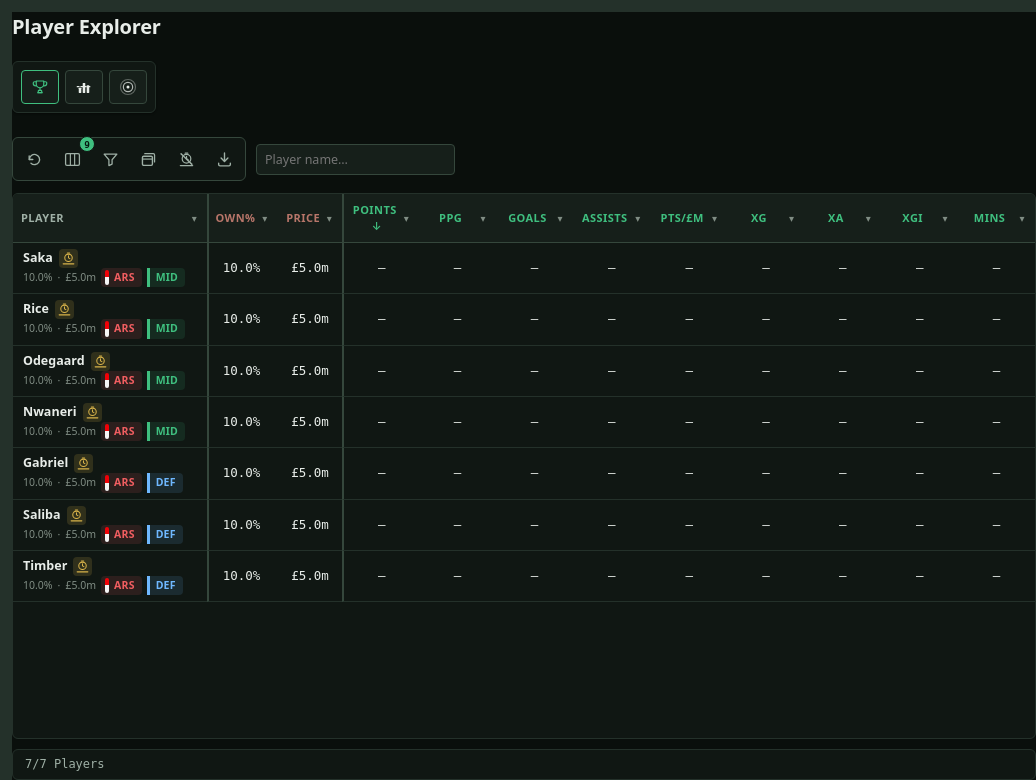
Test case: Player Explorer — <hide_small_samples> › the Hide button leaves out the players under the minutes threshold, and Clear filters brings them back
The width and height of the screenshot is (1036, 780).
Click the button named "Current Season": (128, 87) top-left (109, 70), bottom-right (147, 104)
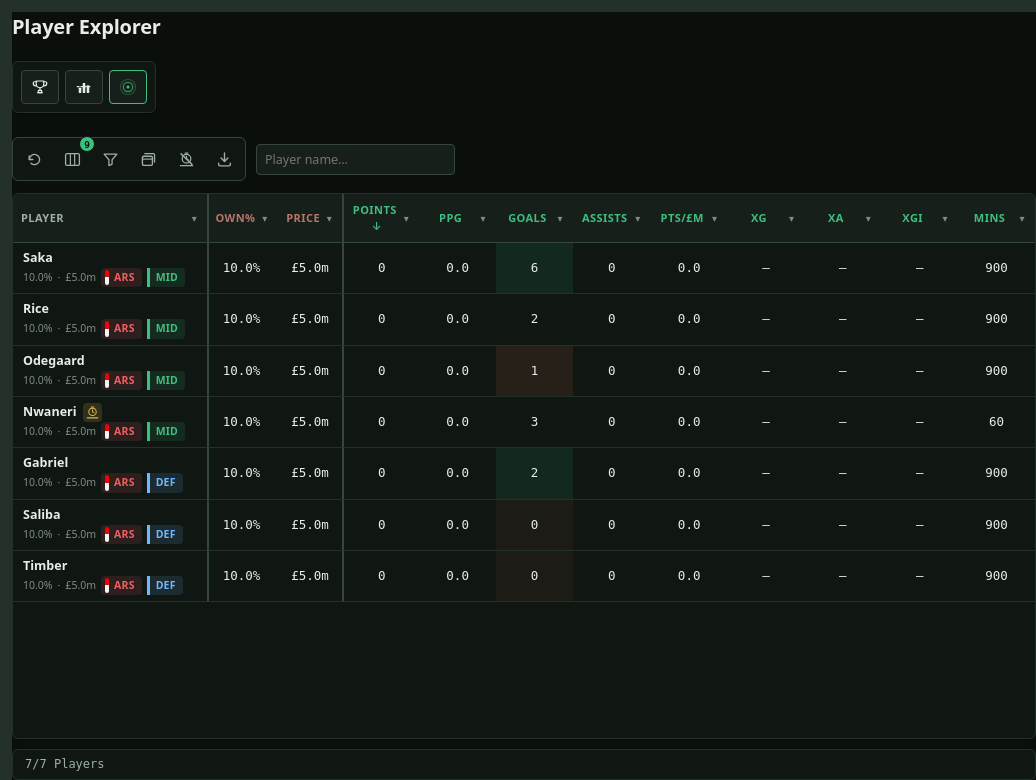
Expected: the button "Nwaneri" is shown, top-left (23, 403), bottom-right (102, 422)
Click the button named "Hide the 1 player under the 90-minute floor (marked with the amber stopwatch)": (186, 159) top-left (169, 142), bottom-right (203, 176)
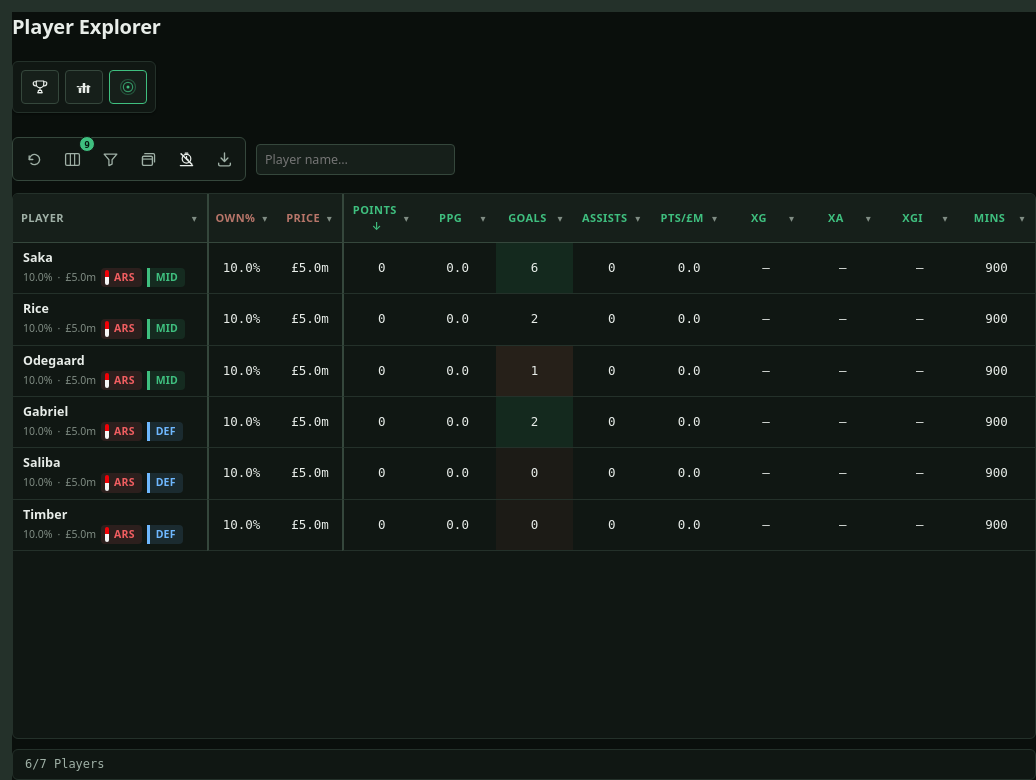
Expected: the button "Saka" is shown, top-left (23, 249), bottom-right (53, 266)
Now the button "Nwaneri" no longer shows "Nwaneri"
Click the button named "Clear every filter": (110, 159) top-left (93, 142), bottom-right (127, 176)
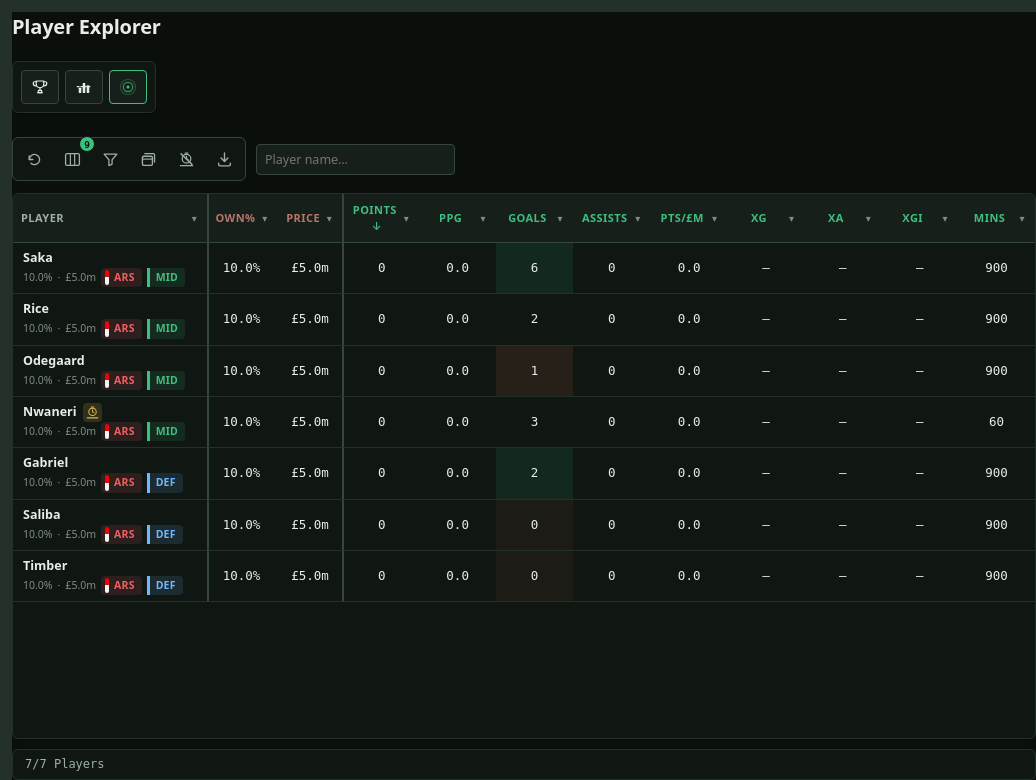
Now the button "Nwaneri" is shown, box top-left (23, 403), bottom-right (102, 422)
